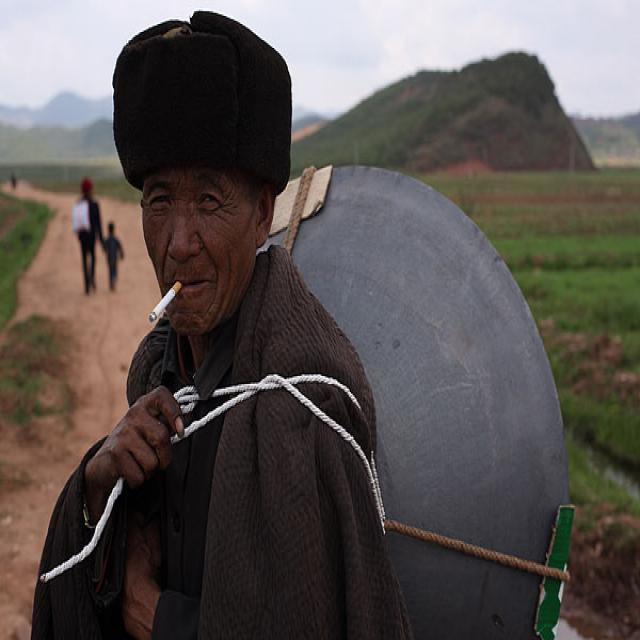smoking: (149, 279, 181, 323)
